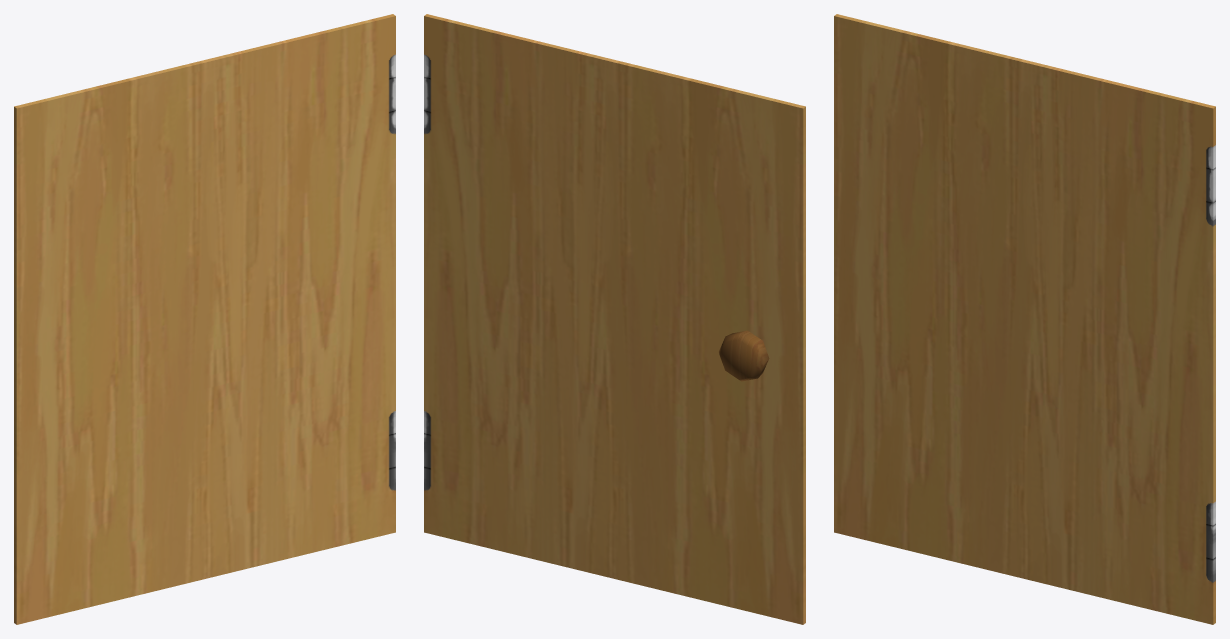
The model's file is frame_right.fbx.
The picture shows the model from 3 angles, left to right: view 1: azimuth 30°, elevation 25°; view 2: azimuth 150°, elevation 25°; view 3: azimuth 330°, elevation 25°; orthographic projection.
Visible parts, largest first — view 1: frame_right; view 2: frame_right; view 3: frame_right.
Boxes of the visible parts, box(x1,y1,x2,y2) form: frame_right: box(14, 14, 395, 624); frame_right: box(424, 14, 805, 624); frame_right: box(834, 14, 1215, 624).
Bounding box in the file's own units: 1379 × 1795 × 87.91.
